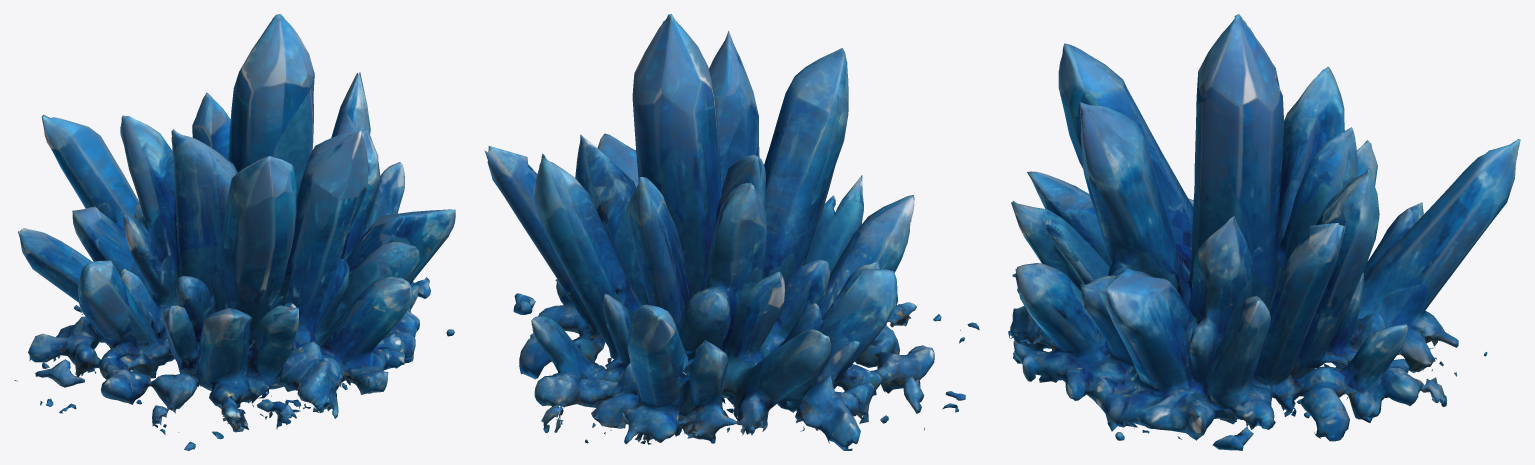
Rendered from minerals.glb.
3 renders of one model, left to right at view 1: azimuth 30°, elevation 25°; view 2: azimuth 150°, elevation 25°; view 3: azimuth 270°, elevation 25°, orthographic. The views are drawn at different scales.
Bounding box in the file's own units: 1.6 × 1.27 × 1.54.
Materials: 1 (1 with a texture image).
